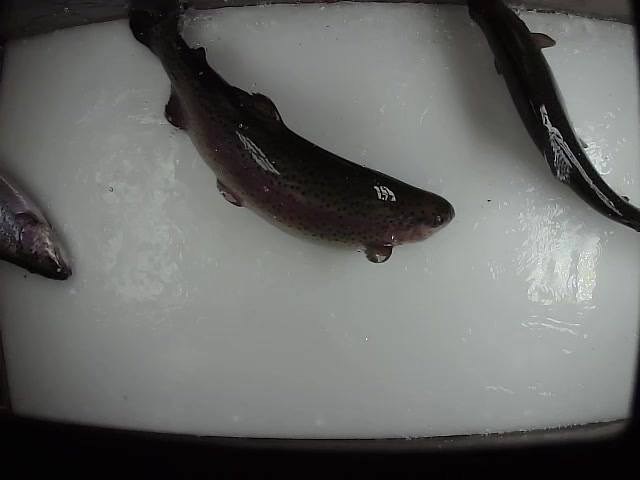fish: (127, 7, 456, 265), (468, 1, 640, 235)
